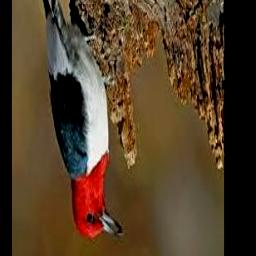Woodpecker: (39, 0, 122, 240)
